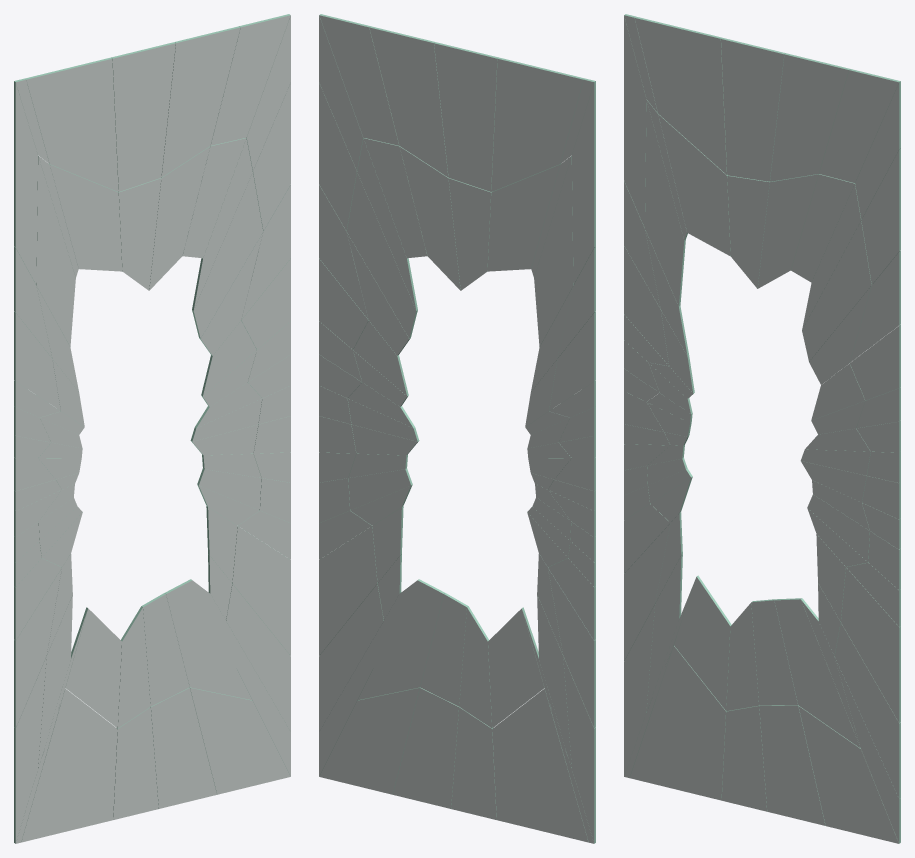
The model's file is DoorGlass_Right_Broken.obj.
3 views of the same model, side by side, from view 1: azimuth 30°, elevation 25°; view 2: azimuth 150°, elevation 25°; view 3: azimuth 330°, elevation 25° (orthographic).
Parts seen in each view (by area): view 1: DoorGlass_Right_Broken; view 2: DoorGlass_Right_Broken; view 3: DoorGlass_Right_Broken.
Part boxes in pixels (x1=…): DoorGlass_Right_Broken: x1=14, y1=14, x2=290, y2=843; DoorGlass_Right_Broken: x1=319, y1=14, x2=595, y2=843; DoorGlass_Right_Broken: x1=624, y1=14, x2=900, y2=843.
Size of the model in its own units: 0.7747 by 2.05 by 0.008.
